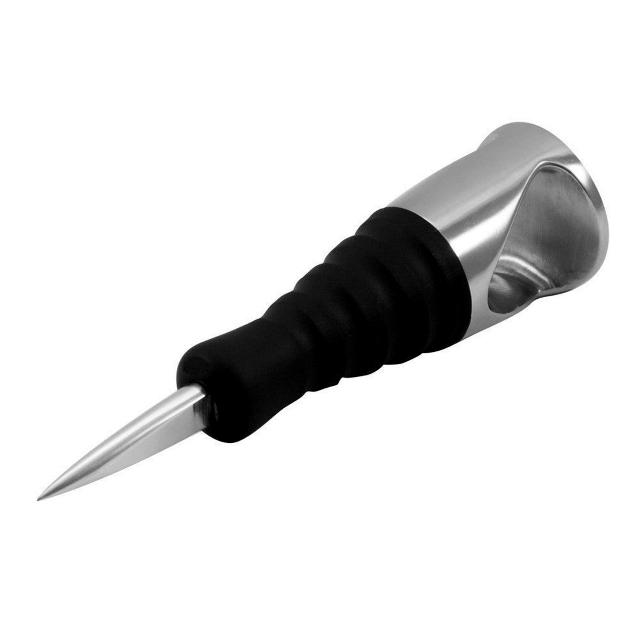ice pick: (36, 120, 610, 502)
